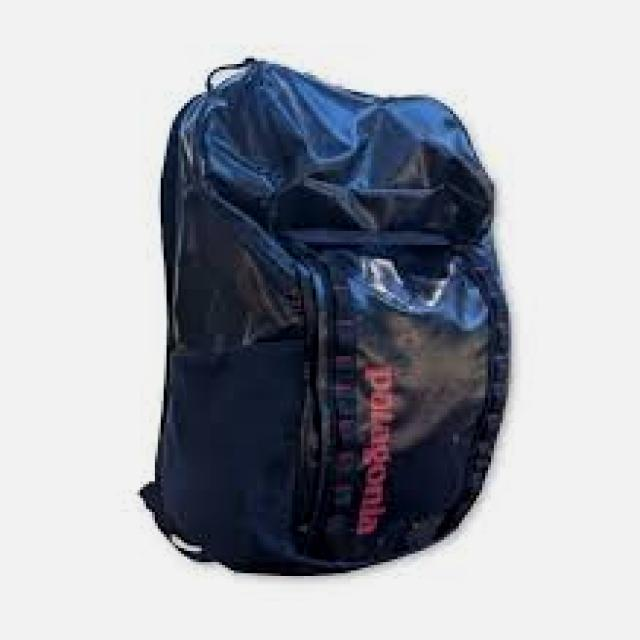backpack: (139, 57, 513, 577)
